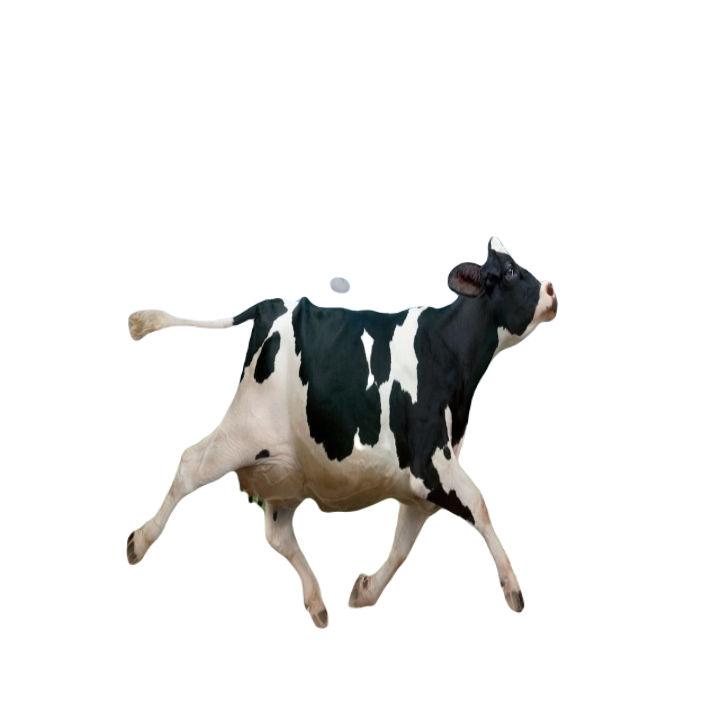Cow: (123, 230, 561, 630)
